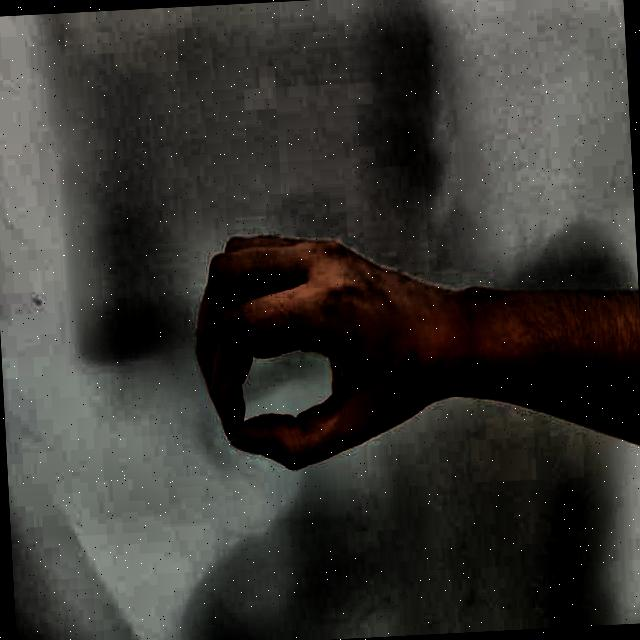O: (162, 194, 482, 506)
